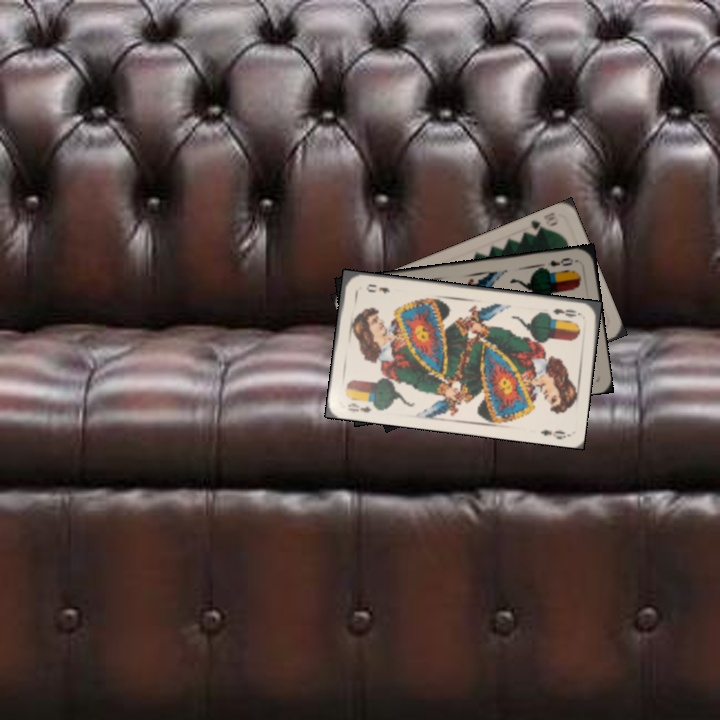EO: (539, 253, 579, 273), (343, 398, 382, 415), (549, 304, 584, 320)
G10: (525, 208, 561, 238)
